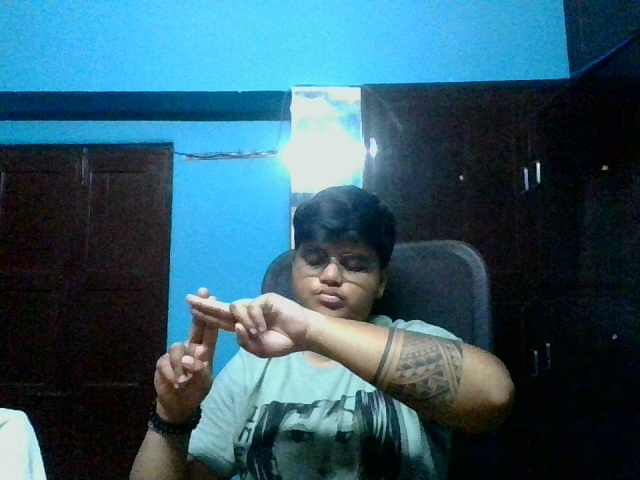F: (150, 276, 310, 421)
